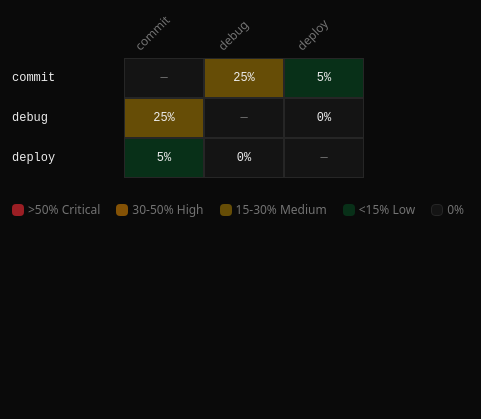
Test: CollisionHeatmap › closes detail panel
Click the 1st text "25%". click: click(244, 78)
box: [204, 58, 284, 98]
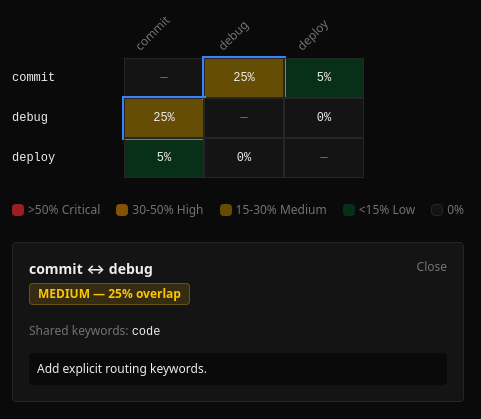
Now the heading "commit ↔ debug" is shown, box [29, 259, 153, 278]
Click the button "Close". click: click(432, 267)
box: [416, 259, 447, 275]
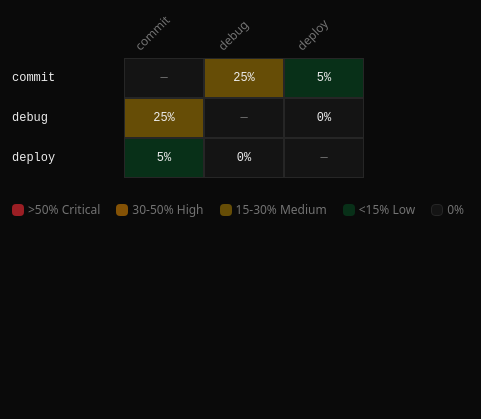
Now the heading "commit ↔ debug" is gone
